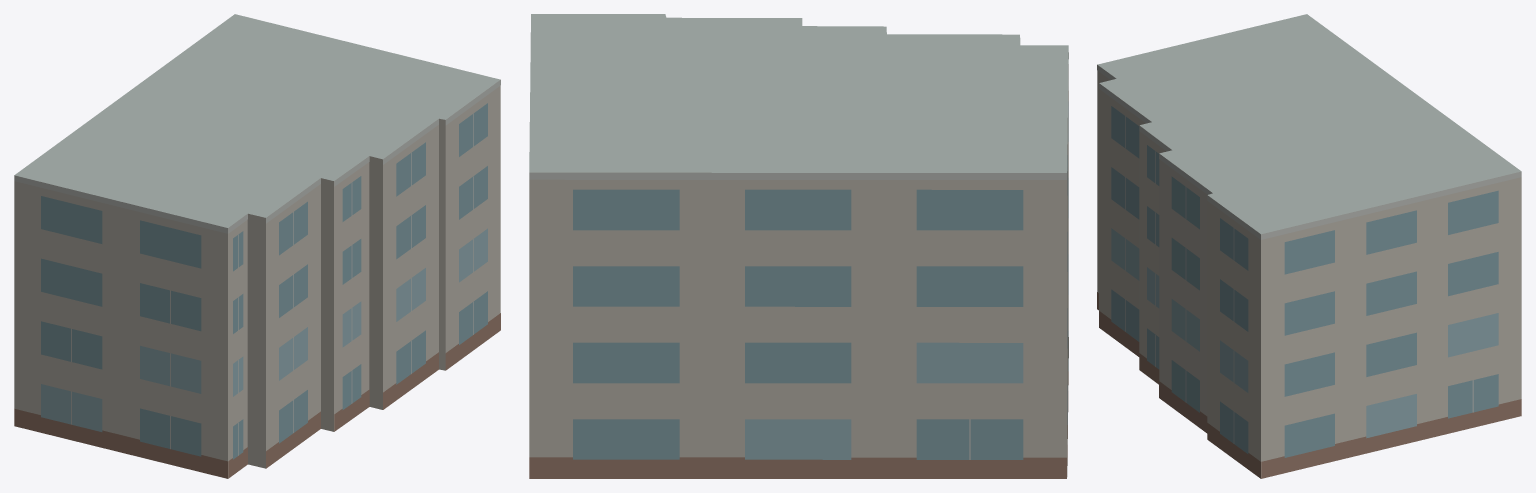
The model's file is survey-upis-32625375.glb.
3 renders of one model, left to right at view 1: azimuth 30°, elevation 25°; view 2: azimuth 150°, elevation 25°; view 3: azimuth 270°, elevation 25°, orthographic. The views are drawn at different scales.
Visible parts, largest first — view 1: survey-upis-32625375.tmp; view 2: survey-upis-32625375.tmp; view 3: survey-upis-32625375.tmp.
Boxes of the visible parts, <box> form: survey-upis-32625375.tmp: <box>14,14,500,478</box>; survey-upis-32625375.tmp: <box>529,14,1068,478</box>; survey-upis-32625375.tmp: <box>1097,14,1521,478</box>.
Size of the model in its own units: 20.39 by 10.55 by 16.61.
